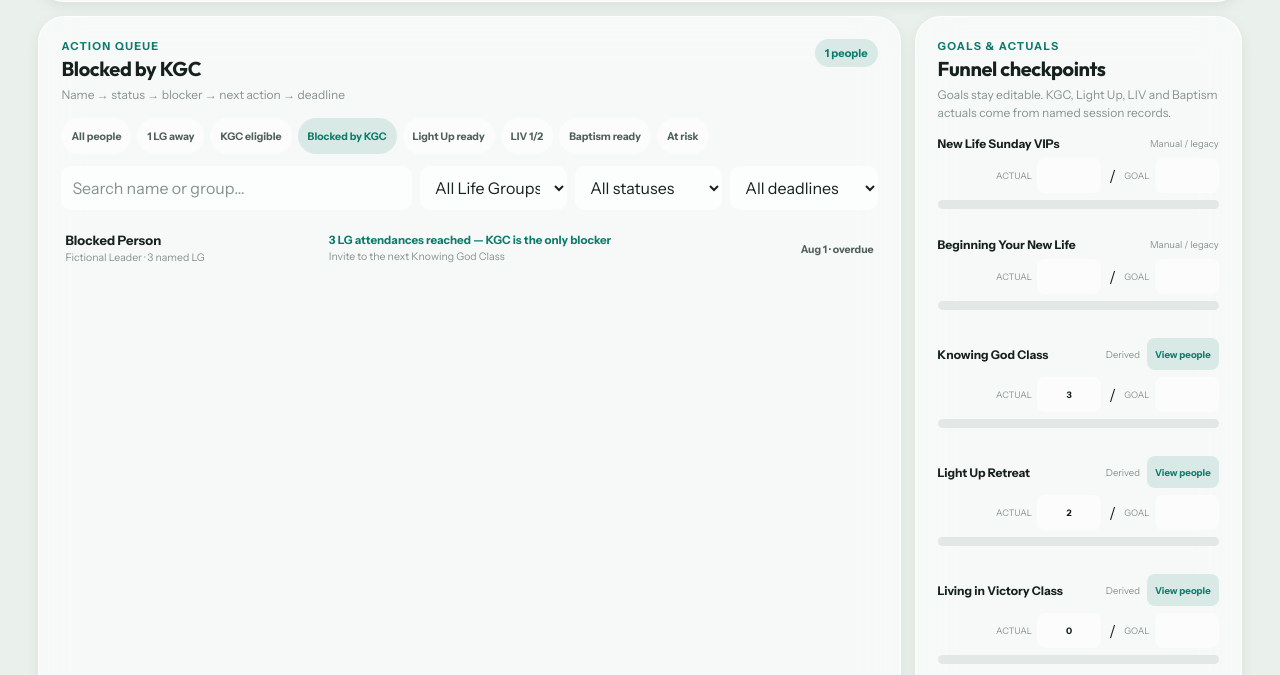
Scenario: CampaignPage › shows the KGC-only blocker and member LIV 1/2 state
(page scrolled)
Expected: the text "3 LG attendances reached — KGC is the only blocker" is shown, [329,233,611,247]
Click the button "LIV 1/2" at (527, 136), box [501,118,553,154]
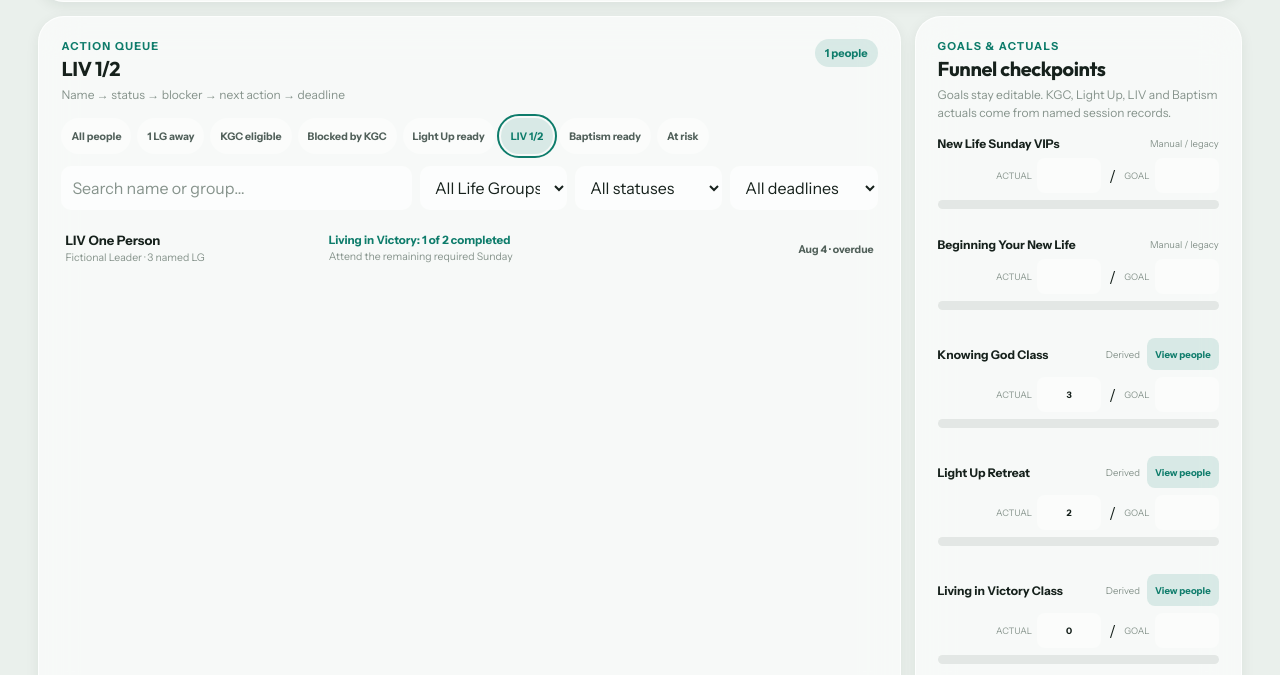
Click the button "LIV One Person" at (470, 249), box [61,222,878,276]
(page scrolled)
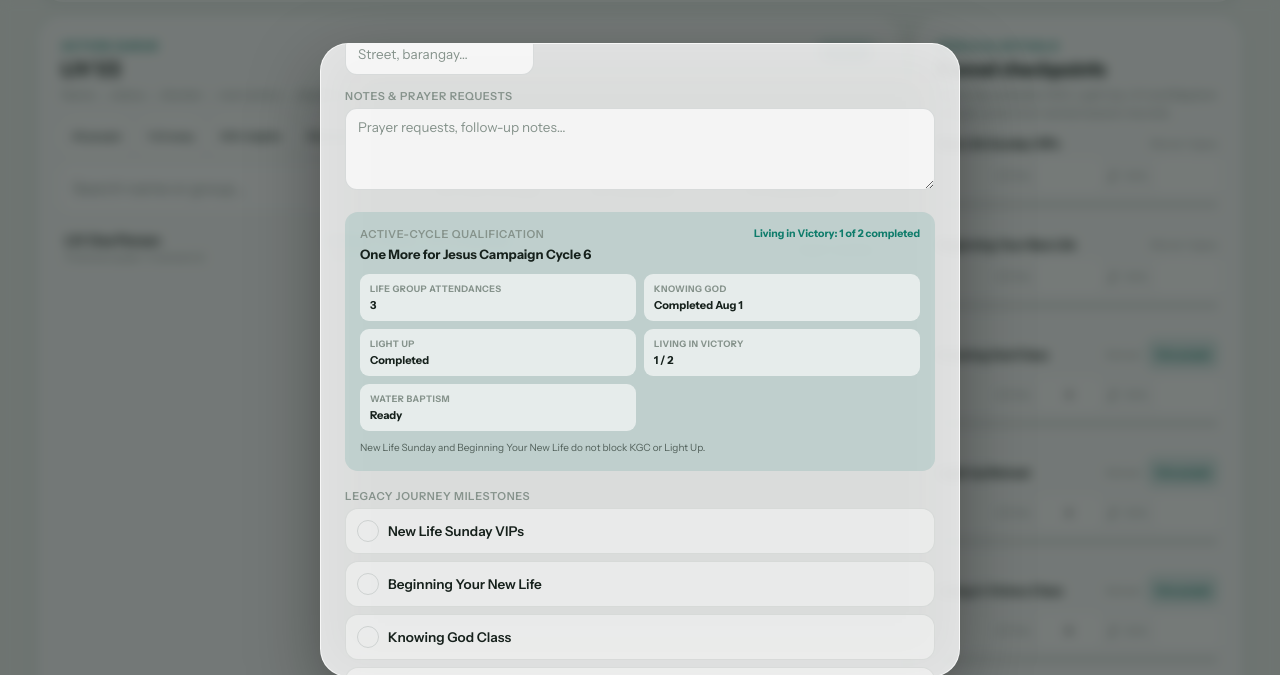
Expected: the text "1 / 2" is shown, [654,353,674,367]
